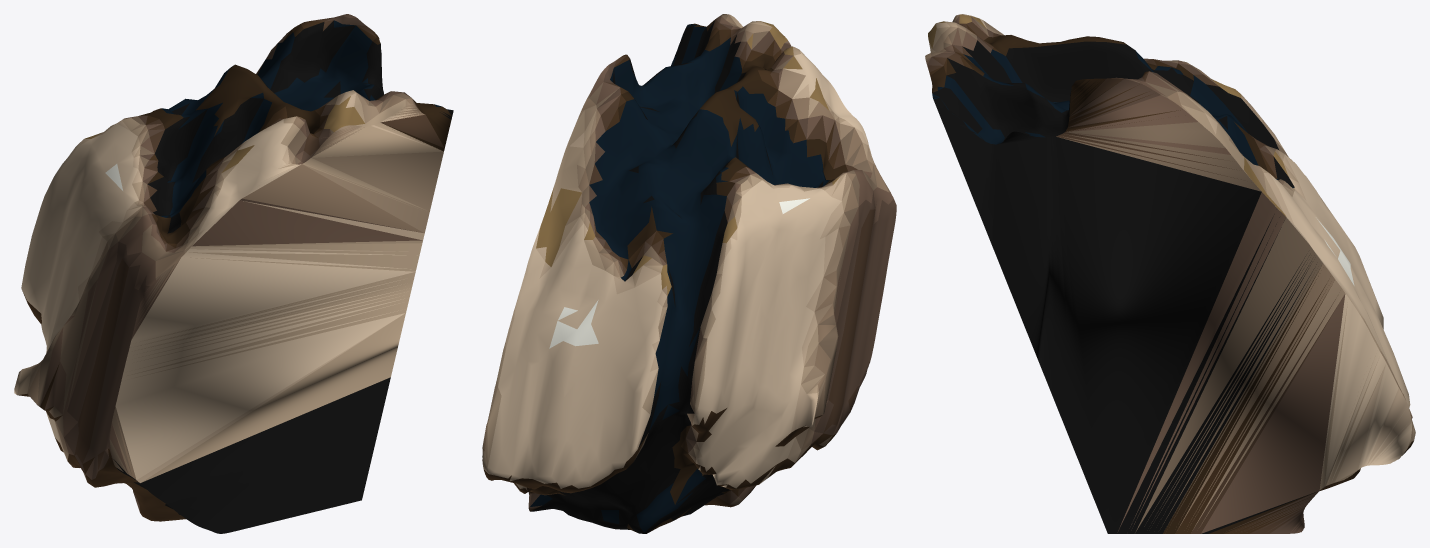
Rendered from rock_column_wreck_tl.glb.
The picture shows the model from 3 angles, left to right: view 1: azimuth 30°, elevation 25°; view 2: azimuth 150°, elevation 25°; view 3: azimuth 270°, elevation 25°; orthographic projection. The views are drawn at different scales.
Visible parts, largest first — view 1: rock_column_wreck_tl; view 2: rock_column_wreck_tl; view 3: rock_column_wreck_tl.
Boxes of the visible parts, <box> form: rock_column_wreck_tl: <box>14,14,453,533</box>; rock_column_wreck_tl: <box>482,14,896,533</box>; rock_column_wreck_tl: <box>925,14,1415,533</box>.
Bounding box in the file's own units: 22.45 × 35.5 × 33.82.
